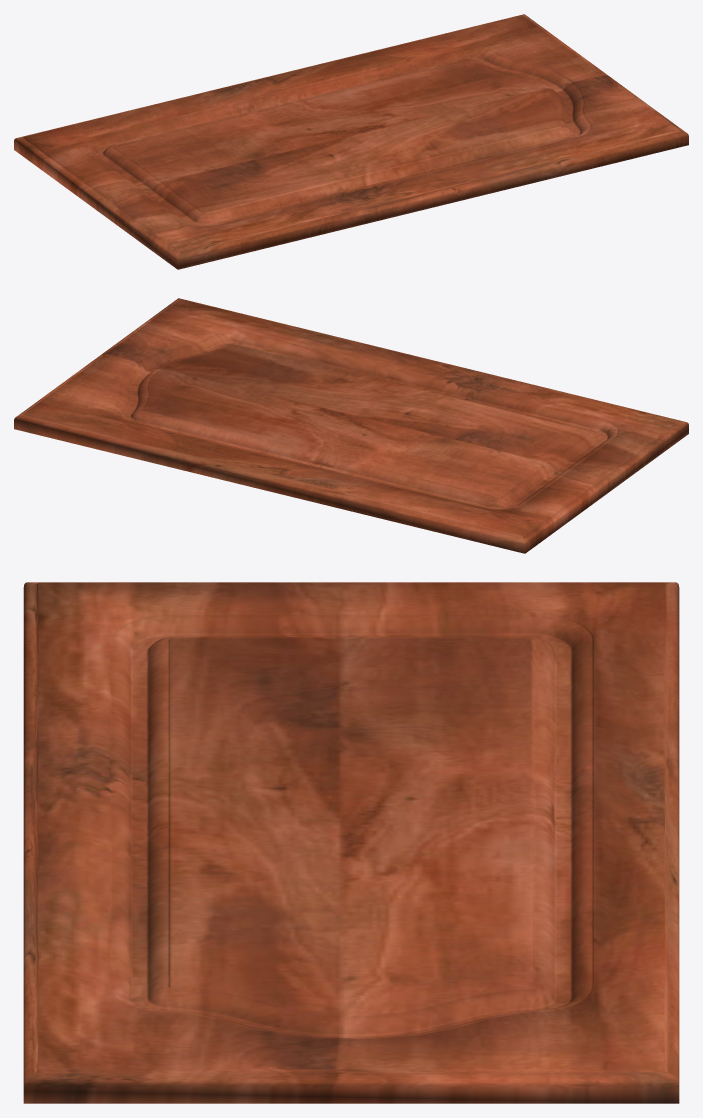
The picture shows the model from 3 angles, top to bottom: view 1: azimuth 30°, elevation 25°; view 2: azimuth 150°, elevation 25°; view 3: azimuth 270°, elevation 25°; orthographic projection. The views are drawn at different scales.
Parts seen in each view (by area): view 1: Fasad; view 2: Fasad; view 3: Fasad.
Boxes of the visible parts, x1,y1,x2,y2 form: Fasad: (14, 14, 688, 269); Fasad: (14, 298, 688, 553); Fasad: (23, 582, 679, 1103).
Bounding box in the file's own units: 0.713 × 0.019 × 0.396.
Materials: 1 (1 with a texture image).
